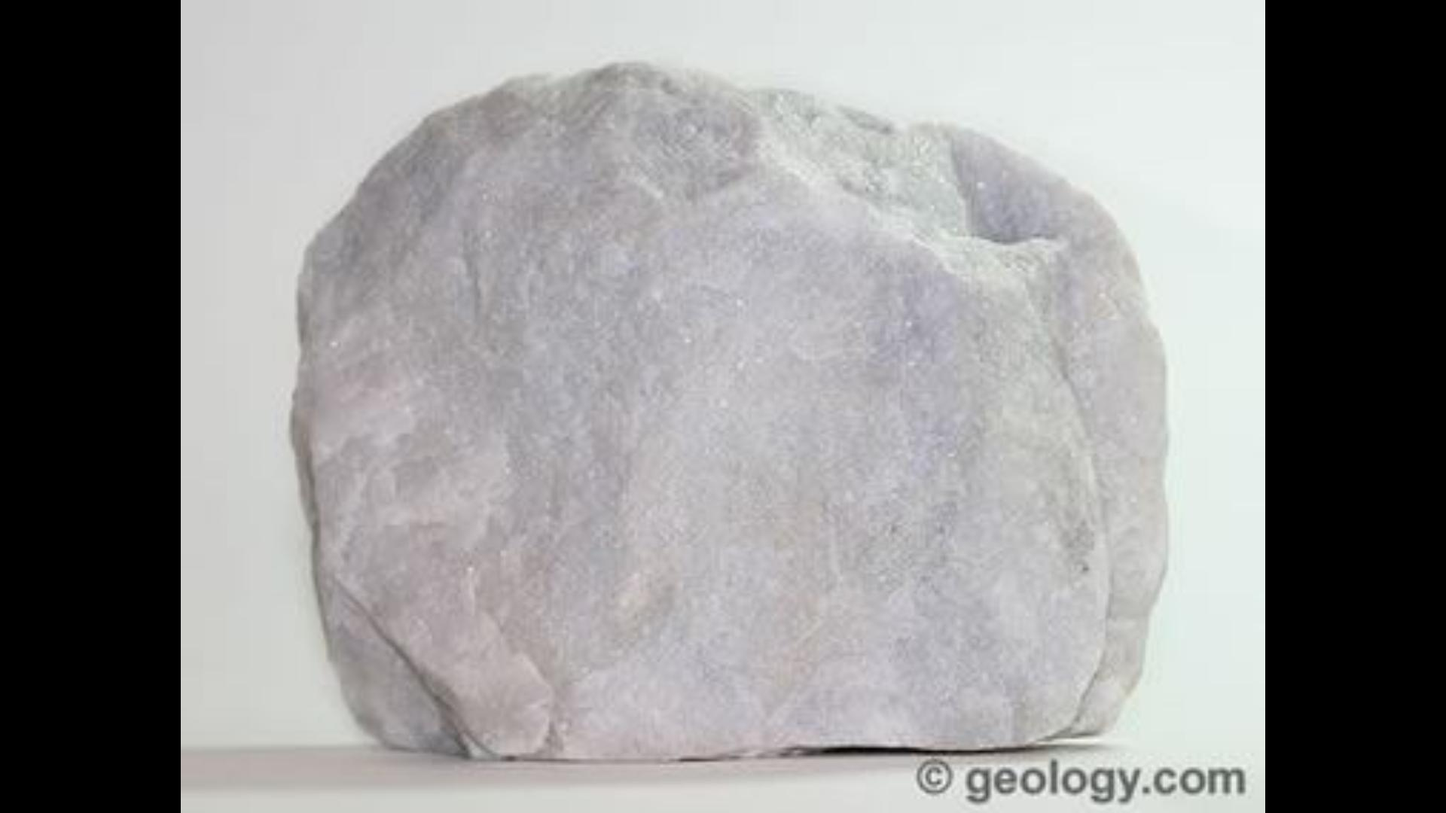rock: (292, 66, 1163, 756)
